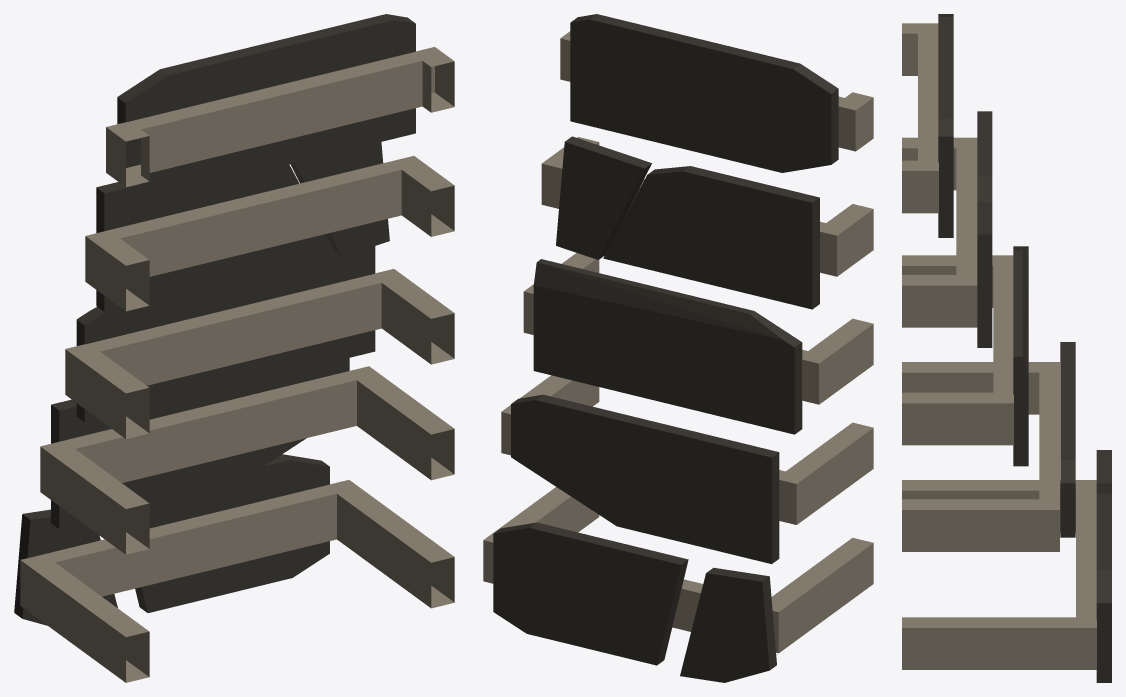
Rendered from Stairs 04.FBX.
The picture shows the model from 3 angles, left to right: view 1: azimuth 30°, elevation 25°; view 2: azimuth 150°, elevation 25°; view 3: azimuth 270°, elevation 25°; orthographic projection. The views are drawn at different scales.
Visible parts, largest first — view 1: Stairs 04; view 2: Stairs 04; view 3: Stairs 04.
Part boxes in pixels (<box>): Stairs 04: <box>14,14,454,682</box>; Stairs 04: <box>483,14,873,682</box>; Stairs 04: <box>902,14,1111,682</box>.
Size of the model in its own units: 136 by 247 by 81.76.
